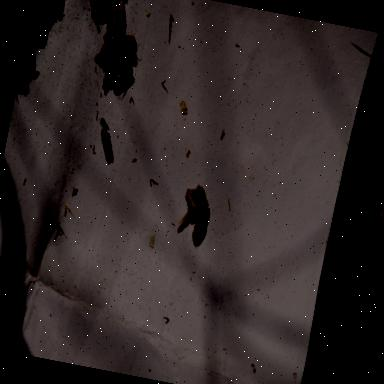pbw: (112, 64, 137, 95), (102, 51, 120, 92), (96, 127, 116, 162), (29, 2, 46, 40), (113, 0, 130, 37), (119, 34, 134, 74), (21, 33, 38, 67), (181, 188, 201, 216), (107, 3, 122, 38), (176, 209, 195, 235), (41, 0, 56, 31), (103, 40, 116, 70), (115, 36, 127, 68), (99, 0, 119, 15), (54, 0, 67, 15), (92, 0, 106, 9)
